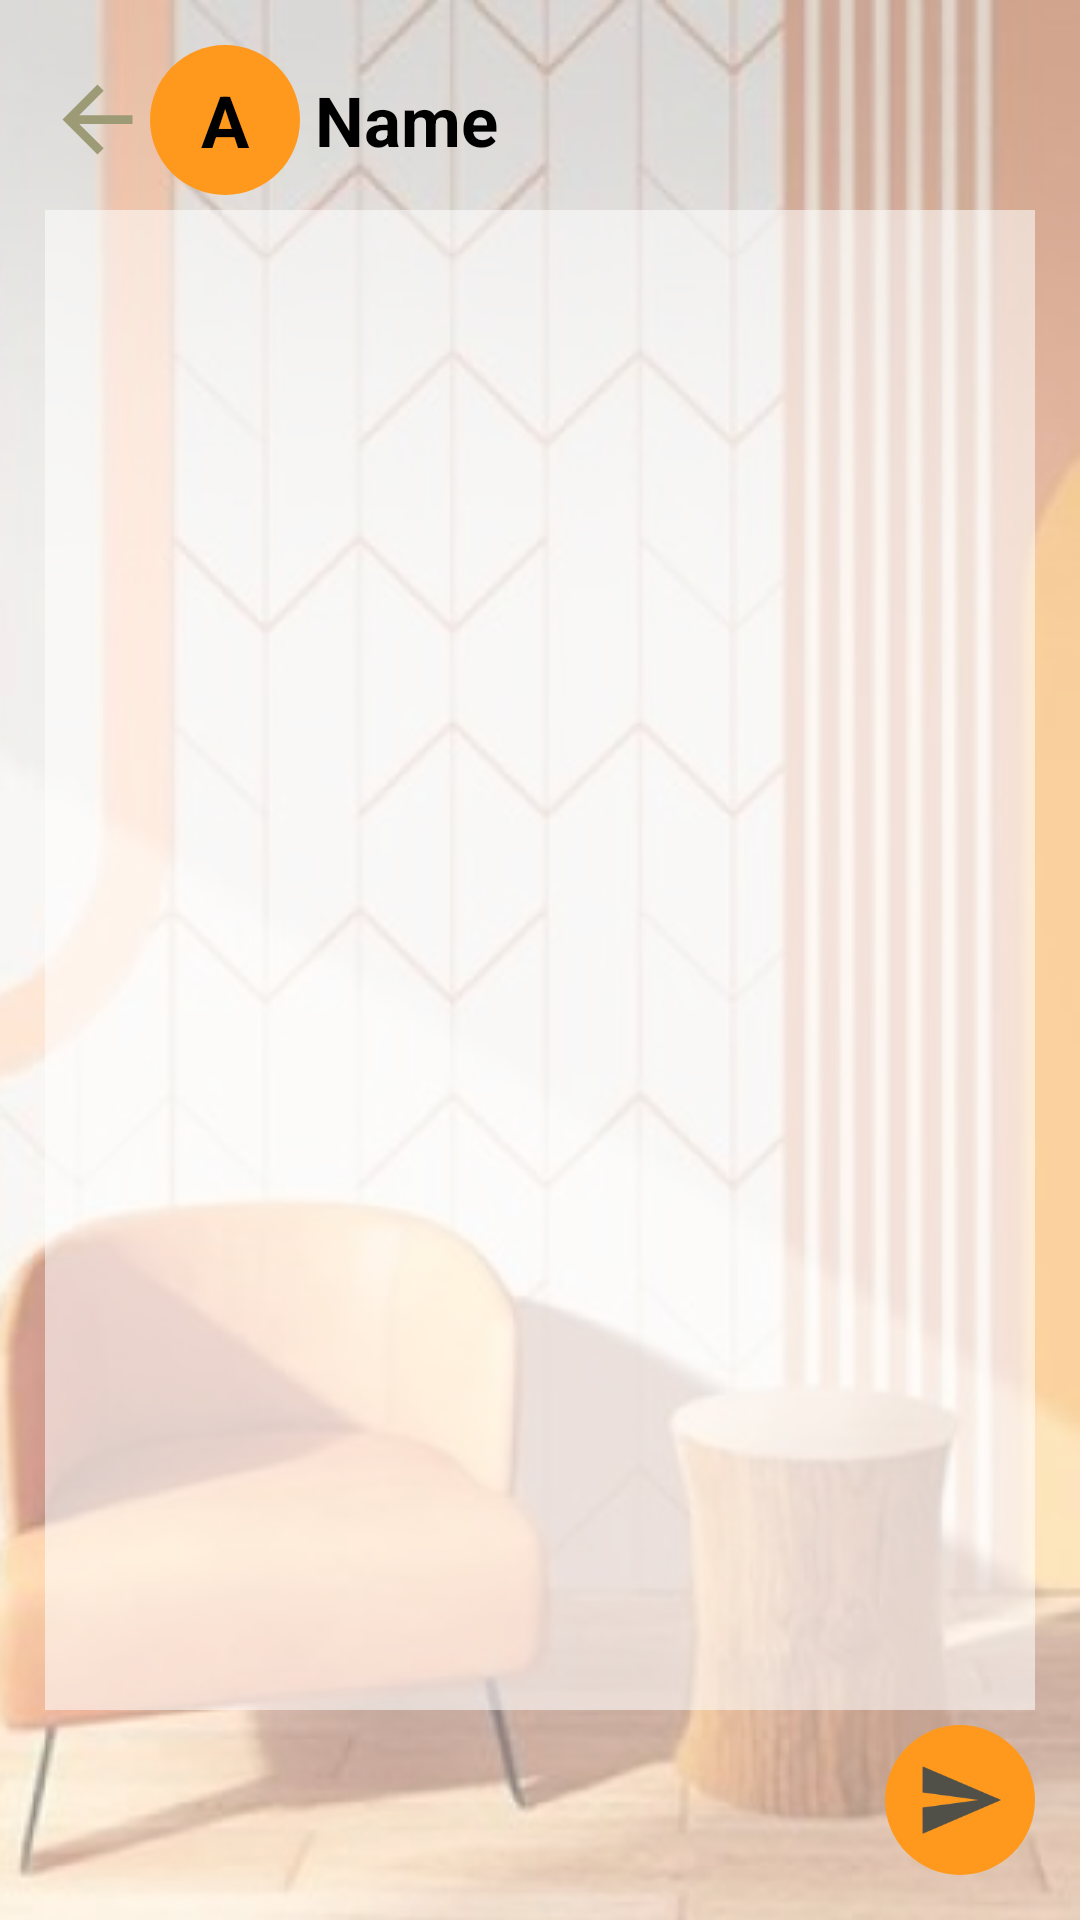

Point at icon controls on the screen. Image size 1080px x 1920px, points as (x=x, y=y).
arrow back: (x=97, y=119)
send: (x=960, y=1800)
